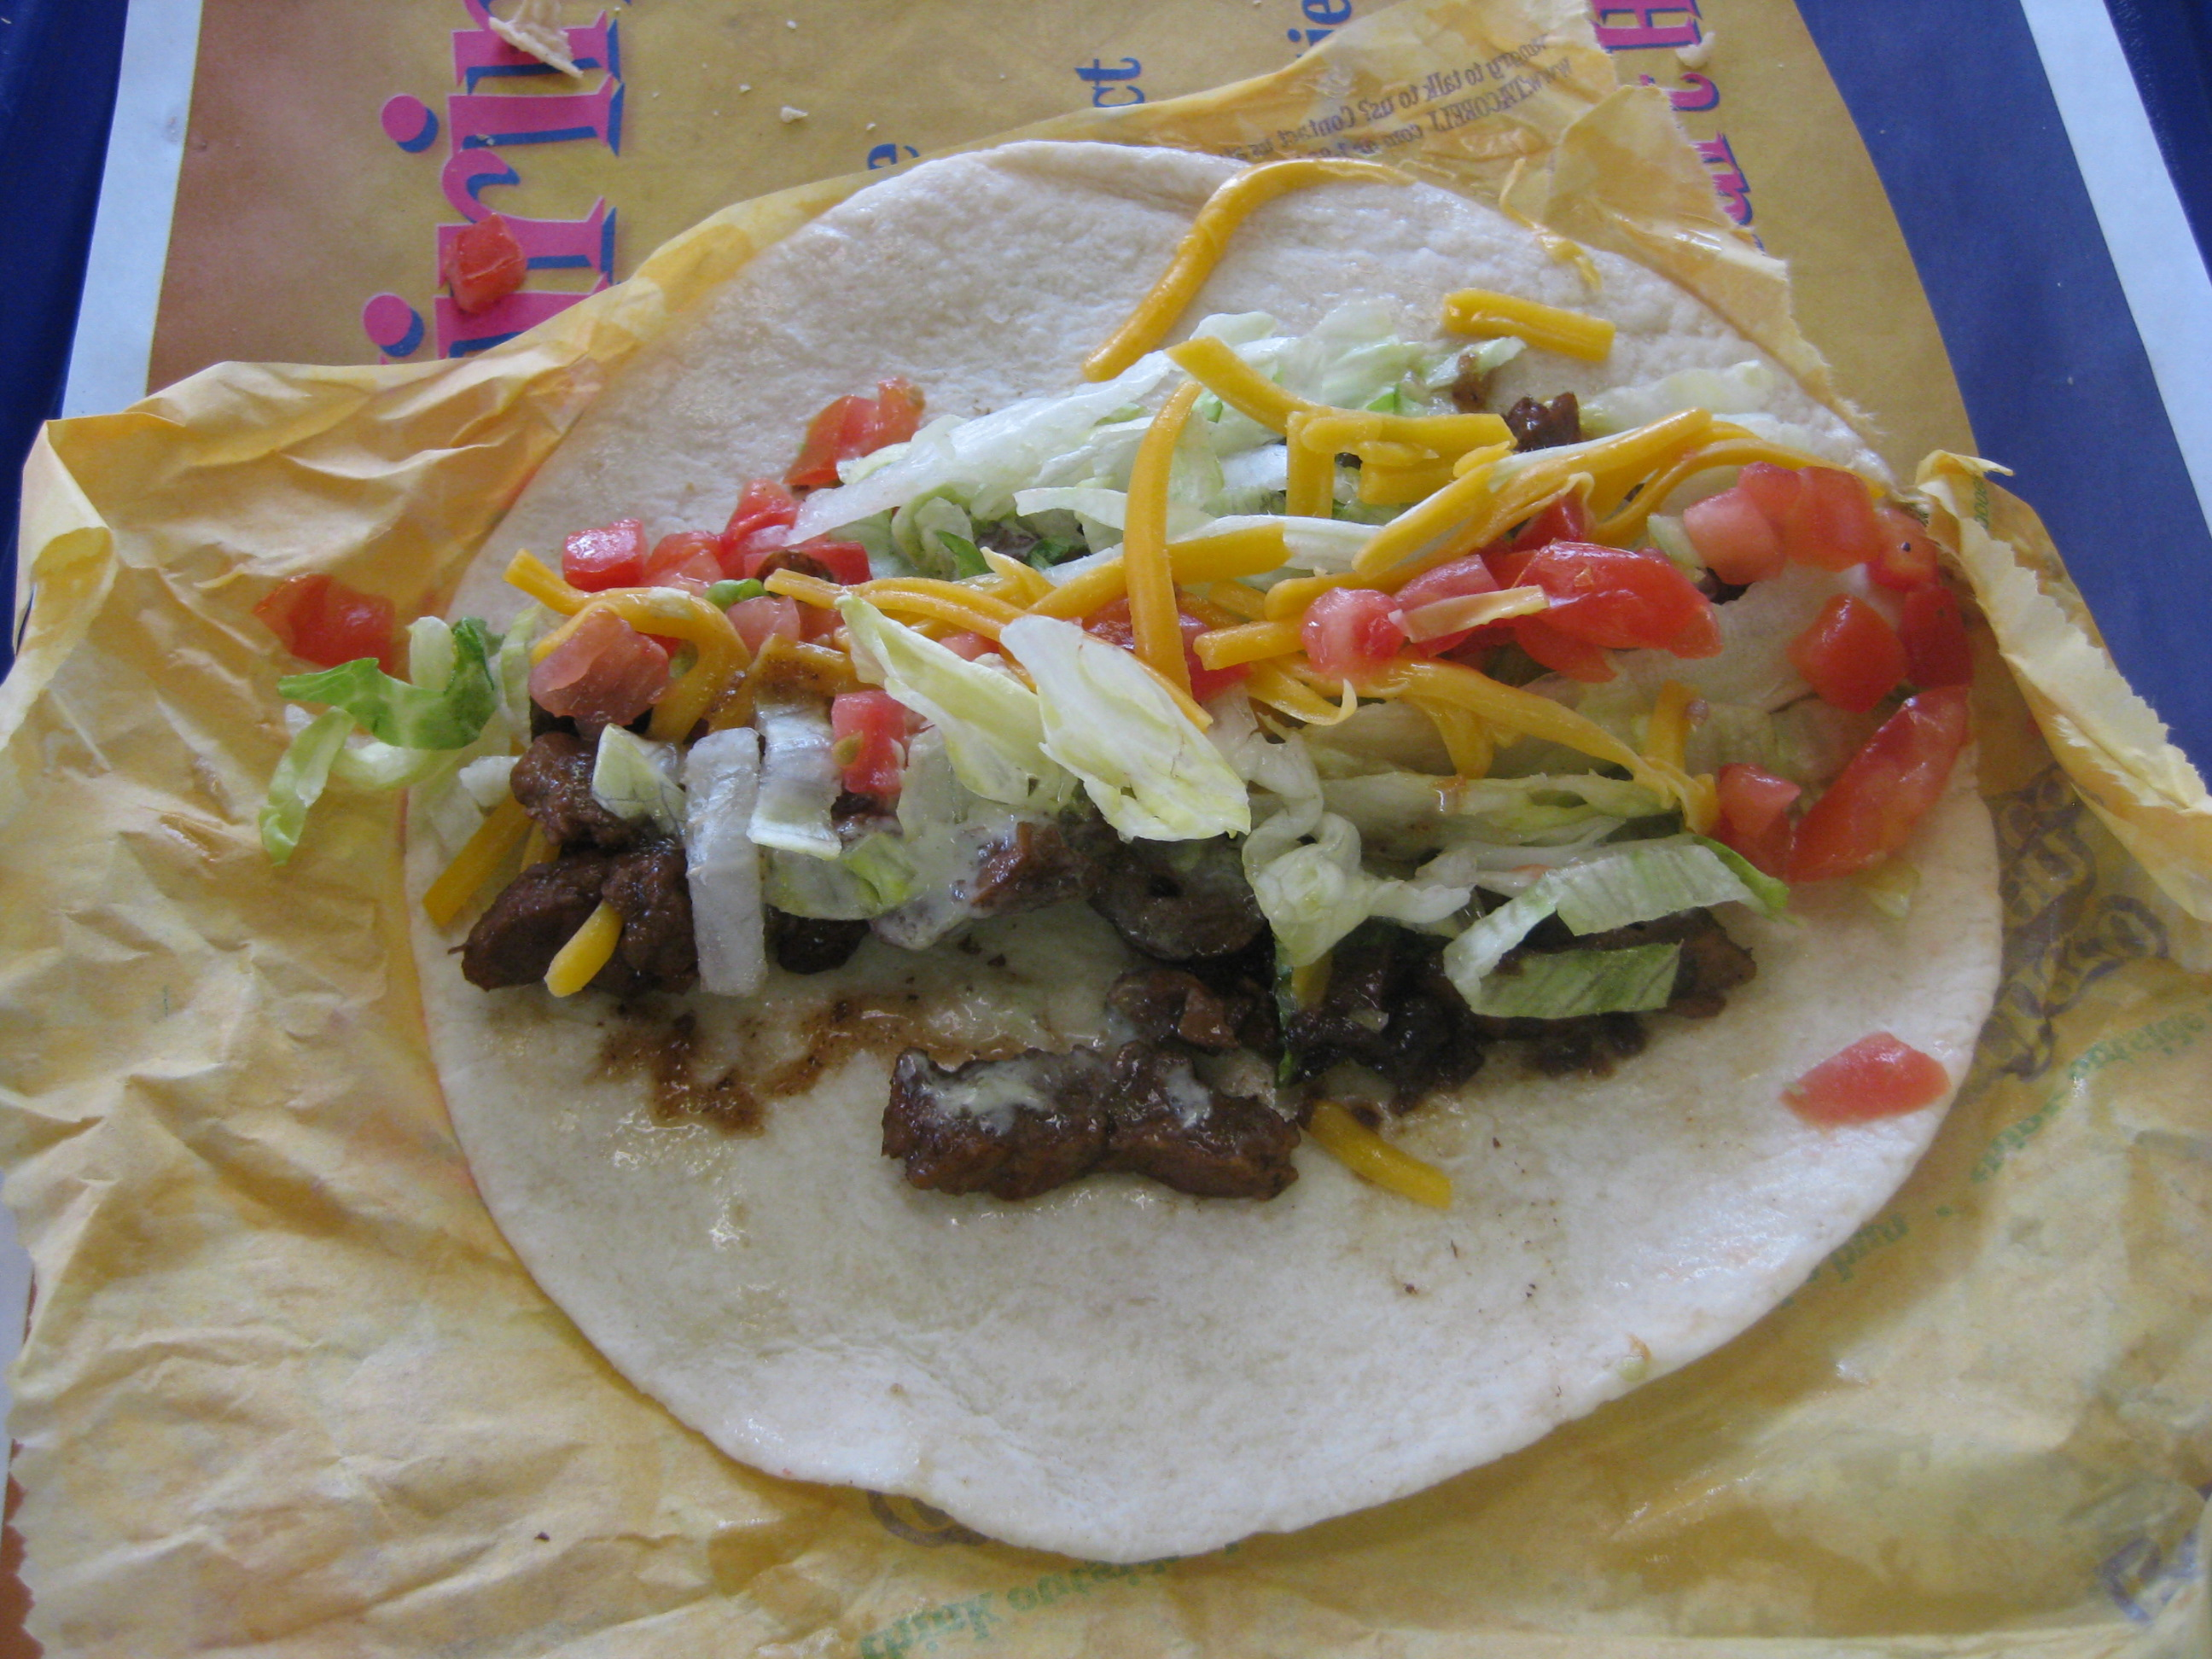taco: (339, 84, 1924, 1471)
